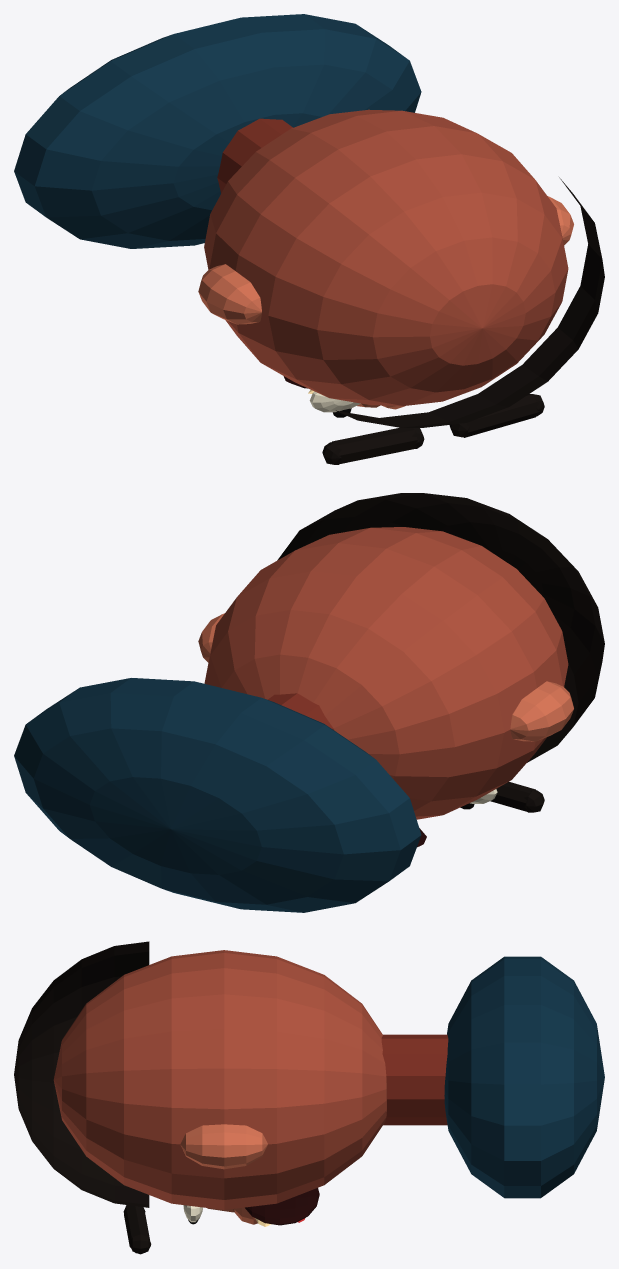
File: ecstatic.obj
The picture shows the model from 3 angles, top to bottom: view 1: azimuth 30°, elevation 25°; view 2: azimuth 150°, elevation 25°; view 3: azimuth 270°, elevation 25°; orthographic projection. The views are drawn at different scales.
Bounding box in the file's own units: 2.69 × 1.97 × 4.02.
